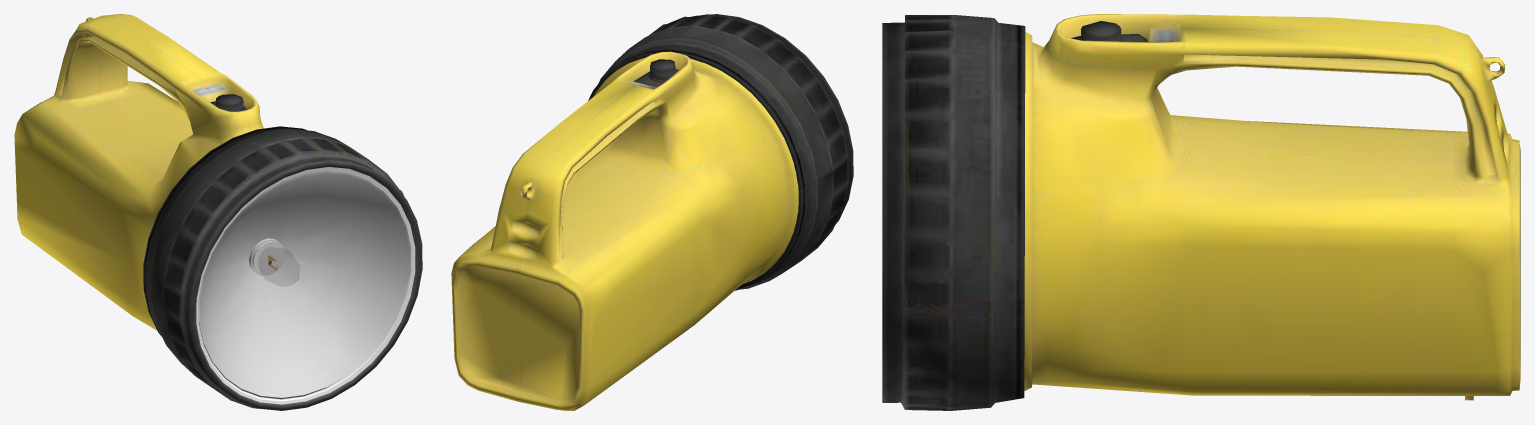
File: pastic_torch_6v.glb
3 renders of one model, left to right at view 1: azimuth 30°, elevation 25°; view 2: azimuth 150°, elevation 25°; view 3: azimuth 270°, elevation 25°, orthographic. The views are drawn at different scales.
Parts seen in each view (by area): view 1: pastic_torch_6v; view 2: pastic_torch_6v; view 3: pastic_torch_6v.
Part boxes in pixels (x1,y1,x2,y2): pastic_torch_6v: (14,14,422,410); pastic_torch_6v: (451,14,853,410); pastic_torch_6v: (882,14,1520,410).
Size of the model in its own units: 0.1369 by 0.1417 by 0.2242.
Materials: 2 (2 with a texture image).
